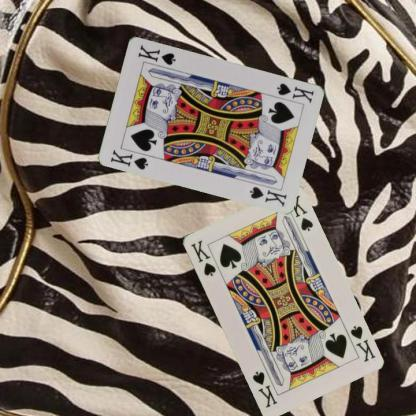Ks: (347, 322, 376, 364), (188, 237, 216, 277), (274, 80, 316, 104), (108, 147, 150, 171)
